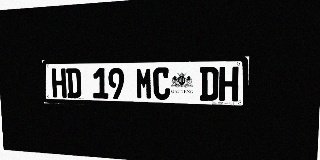1: (92, 68, 108, 99)
9: (108, 68, 125, 99)
C: (153, 67, 170, 100)
D: (200, 67, 219, 101), (66, 68, 81, 98)
H: (219, 66, 239, 101), (51, 68, 67, 98)
M: (136, 67, 153, 100)
